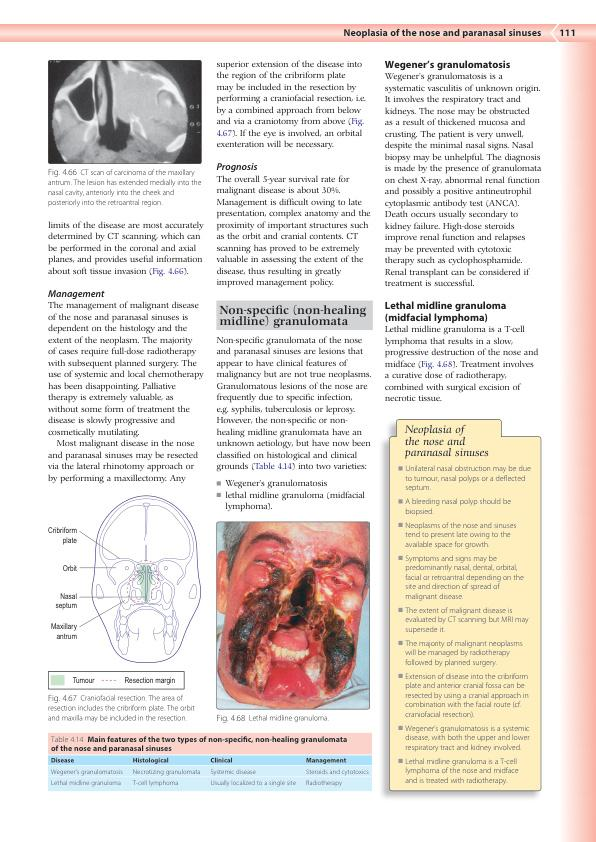caption: (47, 168, 202, 208), (50, 735, 348, 754), (47, 694, 196, 723), (404, 424, 489, 460), (216, 713, 330, 724)
header: (343, 27, 542, 39)
image: (42, 489, 207, 692), (215, 520, 370, 711), (47, 59, 202, 165)
list: (396, 464, 532, 786), (215, 479, 366, 513)
section-heading: (218, 303, 368, 330)
sub-section-heading: (384, 300, 507, 324), (384, 59, 512, 71), (47, 289, 106, 300), (215, 162, 258, 173)
table: (48, 755, 372, 791)
text: (384, 72, 542, 288), (47, 300, 204, 484), (216, 334, 371, 470), (215, 174, 372, 289), (215, 59, 367, 150), (384, 325, 539, 403), (48, 221, 205, 278)
